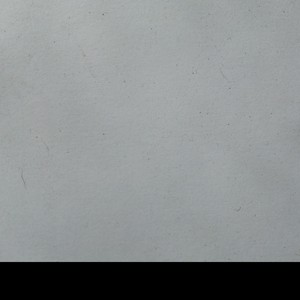base: (2, 1, 299, 260)
